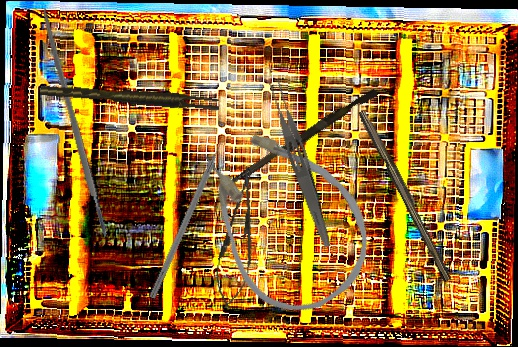Cannula: (173, 99, 394, 334)
Chopper: (148, 131, 238, 304)
Dressing Forceps: (263, 77, 340, 249)
Needle Holder: (211, 164, 266, 311)
Pusher: (222, 84, 378, 196)
Scalpel Handle: (355, 107, 457, 283), (38, 6, 110, 240)
Tissue Forceps: (40, 76, 220, 117)
